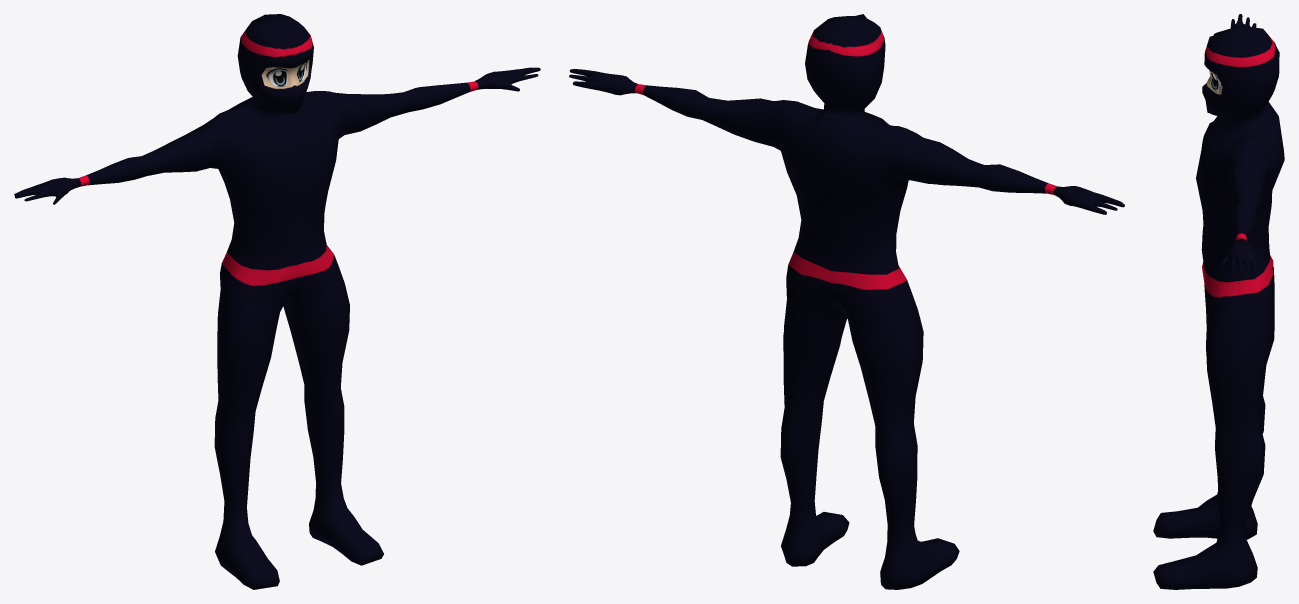
Rendered from Ninja.FBX.
The picture shows the model from 3 angles, left to right: view 1: azimuth 30°, elevation 25°; view 2: azimuth 150°, elevation 25°; view 3: azimuth 270°, elevation 25°; orthographic projection. The views are drawn at different scales.
Parts seen in each view (by area): view 1: Box001; view 2: Box001; view 3: Box001.
Boxes of the visible parts, bbox=[...] form: Box001: bbox=[14, 14, 540, 589]; Box001: bbox=[569, 14, 1124, 589]; Box001: bbox=[1153, 14, 1284, 589].
Size of the model in its own units: 140 by 134 by 30.2.
1 material, 1 textured.
